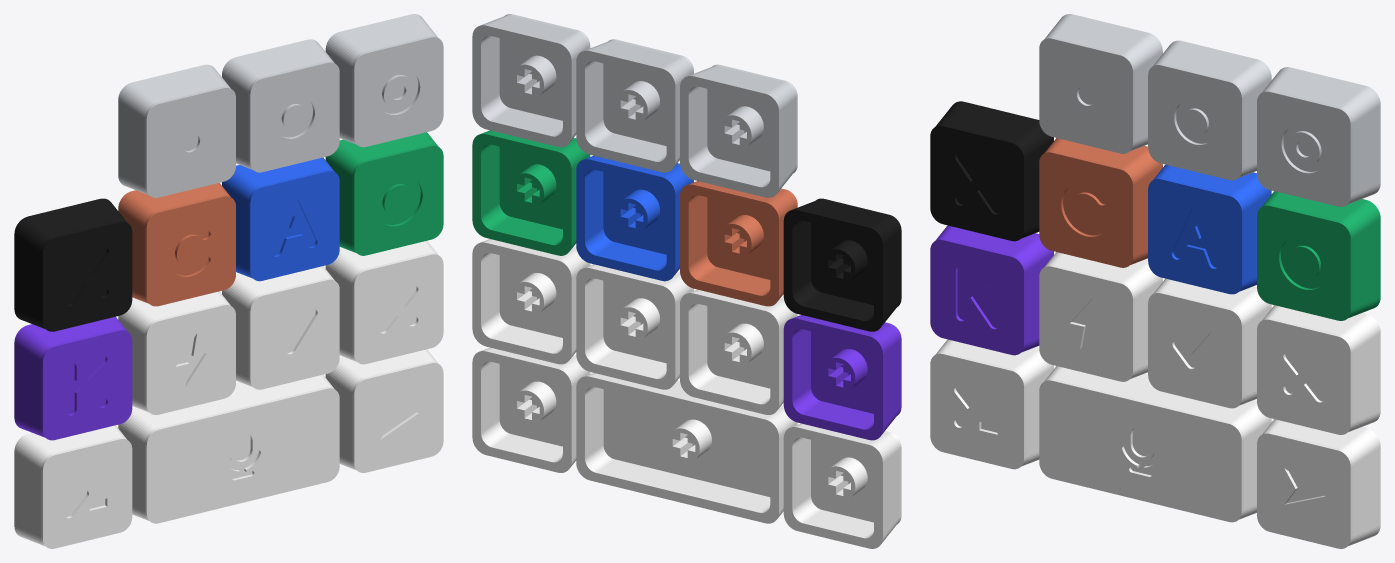
The model's file is preview-caps.glb.
The picture shows the model from 3 angles, left to right: view 1: azimuth 30°, elevation 25°; view 2: azimuth 150°, elevation 25°; view 3: azimuth 330°, elevation 25°; orthographic projection. The views are drawn at different scales.
Parts seen in each view (by area): view 1: voice, codex, preset1, kiro, prompt, preset3, preset2, claude, send, opencode, reject, antigravity (+2 smaller); view 2: voice, codex, preset1, prompt, kiro, preset3, preset2, claude, send, reject, opencode, antigravity (+2 smaller); view 3: voice, preset3, reject, send, opencode, preset1, preset2, codex, prompt, kiro, antigravity, approve (+2 smaller).
Boxes of the visible parts, left/top/right/bottom form: voice: left=118, top=374, right=339, bottom=523; codex: left=14, top=198, right=132, bottom=331; preset1: left=118, top=64, right=235, bottom=197; kiro: left=14, top=316, right=132, bottom=440; prompt: left=14, top=425, right=132, bottom=548; preset3: left=325, top=14, right=443, bottom=147; preset2: left=222, top=39, right=339, bottom=172; claude: left=118, top=183, right=235, bottom=306; send: left=325, top=349, right=443, bottom=472; opencode: left=325, top=132, right=443, bottom=255; reject: left=325, top=241, right=443, bottom=364; antigravity: left=222, top=157, right=339, bottom=281; voice: left=576, top=373, right=797, bottom=523; codex: left=783, top=198, right=901, bottom=331; preset1: left=680, top=64, right=797, bottom=197; prompt: left=783, top=423, right=901, bottom=548; kiro: left=783, top=315, right=901, bottom=440; preset3: left=472, top=14, right=590, bottom=147; preset2: left=576, top=39, right=693, bottom=172; claude: left=680, top=181, right=797, bottom=306; send: left=472, top=347, right=590, bottom=472; reject: left=472, top=239, right=590, bottom=364; opencode: left=472, top=130, right=590, bottom=255; antigravity: left=576, top=155, right=693, bottom=281; voice: left=1039, top=366, right=1271, bottom=522; preset3: left=1257, top=67, right=1380, bottom=206; reject: left=1257, top=305, right=1380, bottom=434; send: left=1257, top=419, right=1380, bottom=548; opencode: left=1257, top=191, right=1380, bottom=320; preset1: left=1039, top=14, right=1162, bottom=153; preset2: left=1148, top=40, right=1271, bottom=180; codex: left=930, top=101, right=1053, bottom=241; prompt: left=930, top=339, right=1053, bottom=469; kiro: left=930, top=225, right=1053, bottom=355; antigravity: left=1148, top=164, right=1271, bottom=294; approve: left=1148, top=278, right=1271, bottom=408.
Bounding box in the file's own units: 75.35 × 75.35 × 7.5.
